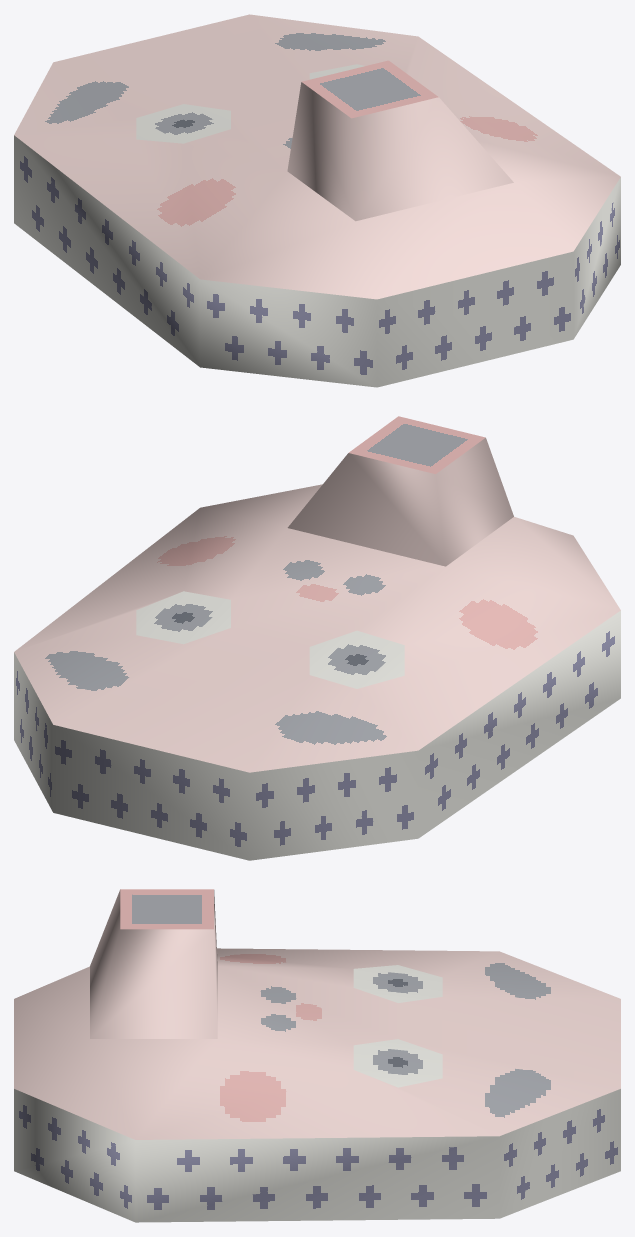
Rendered from 003f_Hyottoko_Mask.glb.
3 renders of one model, top to bottom at view 1: azimuth 30°, elevation 25°; view 2: azimuth 150°, elevation 25°; view 3: azimuth 270°, elevation 25°, orthographic. The views are drawn at different scales.
Parts seen in each view (by area): view 1: part_0, part_1; view 2: part_0, part_1, part_2; view 3: part_0, part_2, part_1.
Part boxes in pixels (box(x1,y1,x2,y2)): part_0: box(14, 14, 620, 387); part_1: box(136, 104, 230, 143); part_0: box(14, 416, 620, 860); part_1: box(309, 630, 404, 688); part_2: box(136, 591, 230, 644); part_0: box(14, 889, 620, 1222); part_2: box(353, 1039, 442, 1087); part_1: box(353, 965, 442, 1002).
Bounding box in the file's own units: 0.15 × 0.0749 × 0.2.
Materials: 3 (3 with a texture image).
